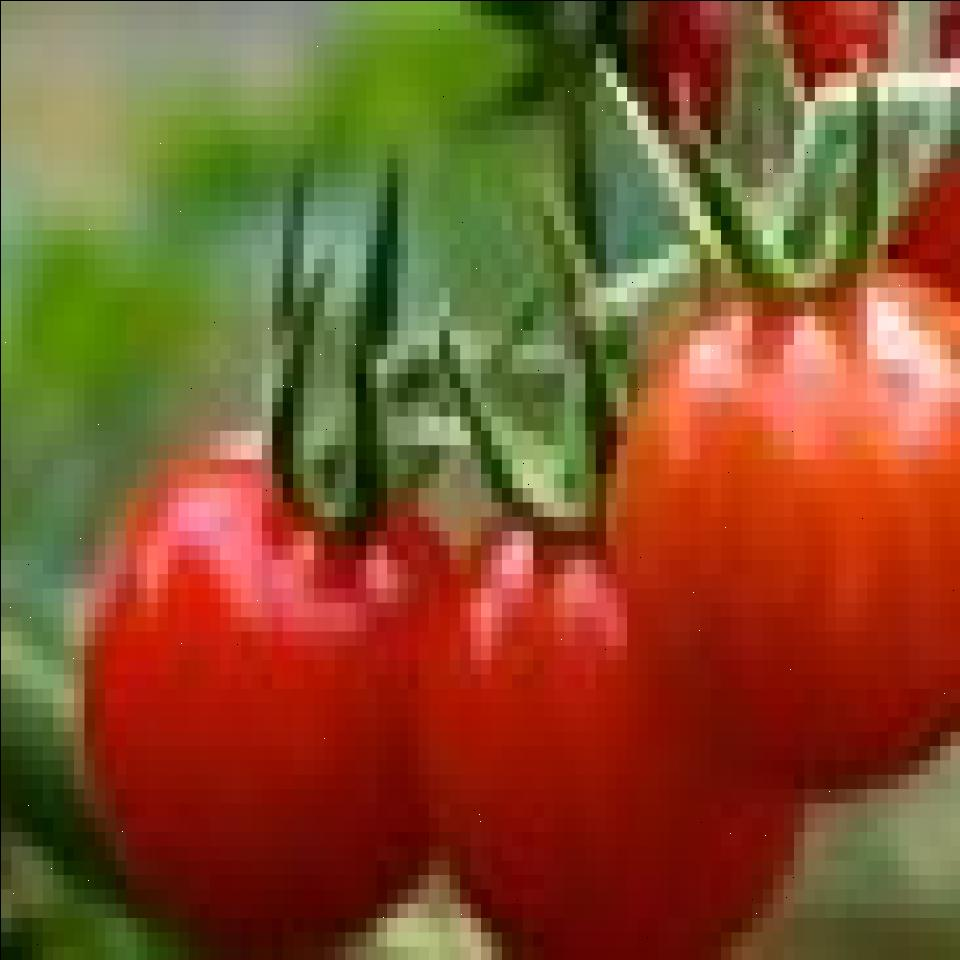Healthy: (410, 480, 799, 946), (79, 451, 436, 951), (634, 222, 950, 710)
